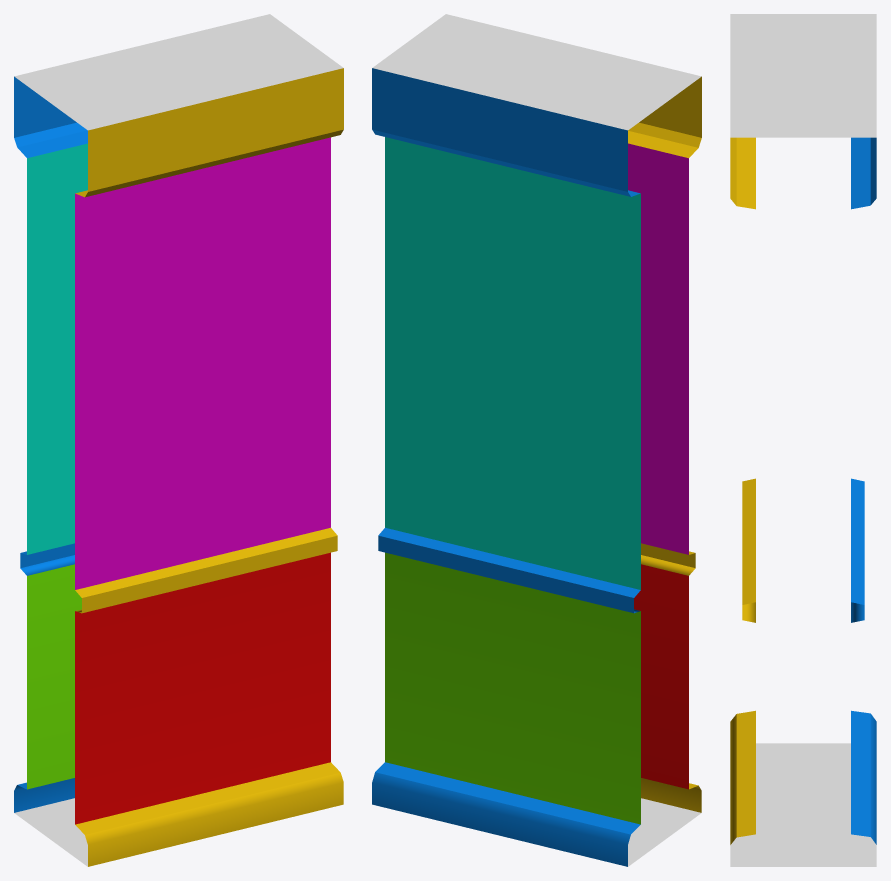
Rendered from Wall.fbx.
3 renders of one model, left to right at view 1: azimuth 30°, elevation 25°; view 2: azimuth 150°, elevation 25°; view 3: azimuth 270°, elevation 25°, orthographic.
Visible parts, largest first — view 1: wall_1m_doublesided; view 2: wall_1m_doublesided; view 3: wall_1m_doublesided.
Part boxes in pixels (x1,y1,x2,y2): wall_1m_doublesided: [14, 14, 343, 866]; wall_1m_doublesided: [372, 14, 701, 866]; wall_1m_doublesided: [730, 14, 876, 866].
Size of the model in its own units: 100 by 275 by 50.
